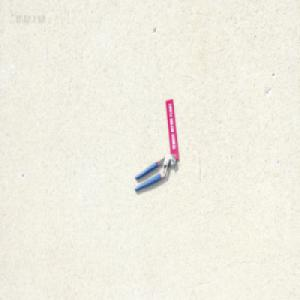Label: (165, 97, 179, 160)
Pliers: (133, 154, 176, 192)
